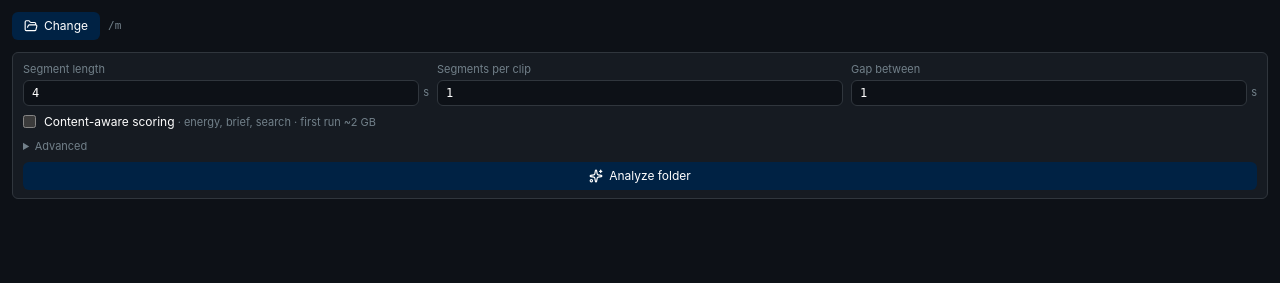
Scenario: FolderAnalyzer › offers search only with content-aware scoring
Expected: the field labelled "Find shots" is not shown
What coordinates should you click on to do the following:
click the checkbox labelled "Content-aware scoring"
I would click on:
 (30, 122)
Its box is x1=23 y1=115 x2=36 y2=128.
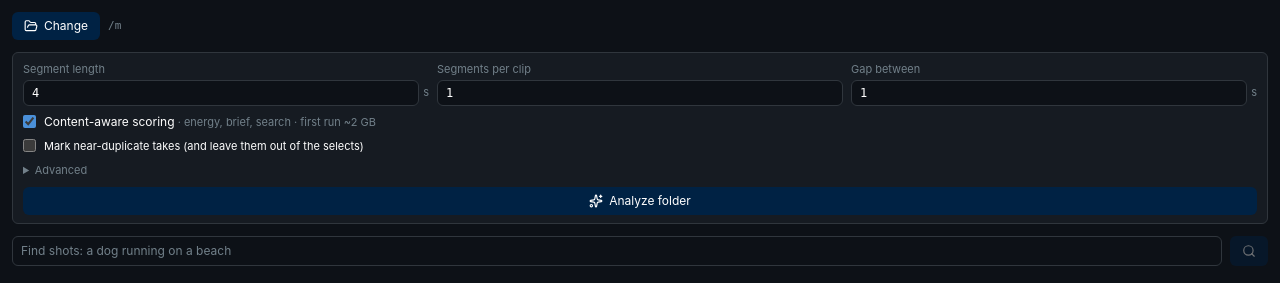
Expected: the text "· energy, brief, search · first run ~2 GB" is shown, x1=174 y1=114 x2=376 y2=128
Now the field labelled "Find shots" is shown, box x1=12 y1=236 x2=1222 y2=266
Now the button named "Search" is disabled, box x1=1230 y1=236 x2=1268 y2=266
